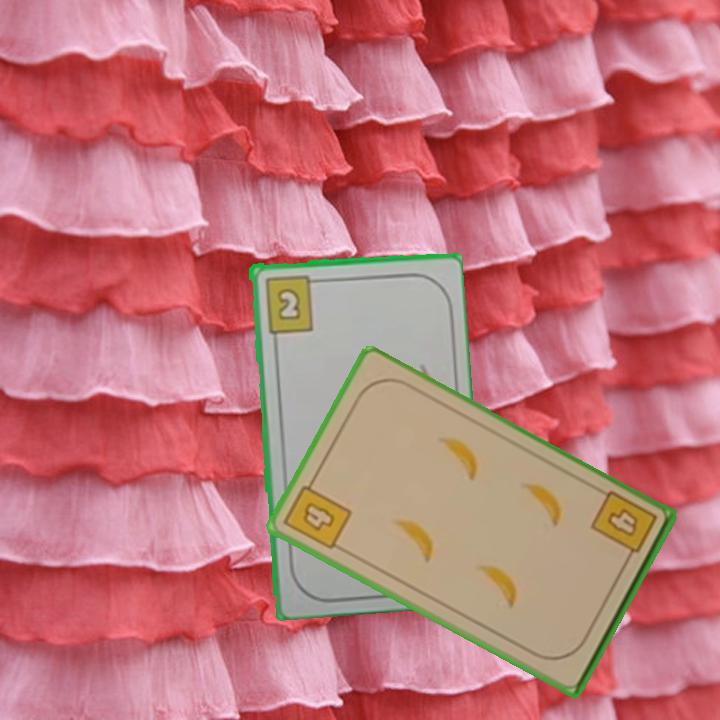2b: (261, 271, 322, 335)
4b: (280, 473, 355, 553), (587, 487, 660, 567)
